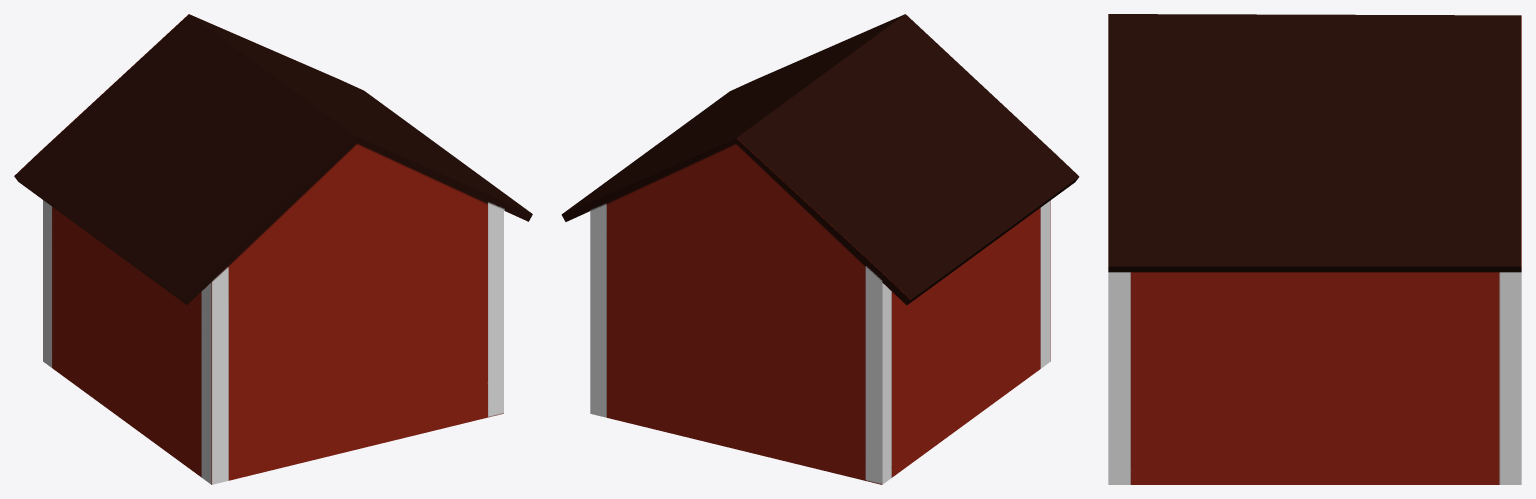
The model's file is Hus.fbx.
The picture shows the model from 3 angles, left to right: view 1: azimuth 30°, elevation 25°; view 2: azimuth 150°, elevation 25°; view 3: azimuth 270°, elevation 25°; orthographic projection. The views are drawn at different scales.
Visible parts, largest first — view 1: pCube1; view 2: pCube1; view 3: pCube1.
Part boxes in pixels (x1,y1,x2,y2): pCube1: (14, 14, 532, 484); pCube1: (561, 14, 1079, 484); pCube1: (1108, 14, 1521, 484).
Bounding box in the file's own units: 28.82 × 24.59 × 24.06.
